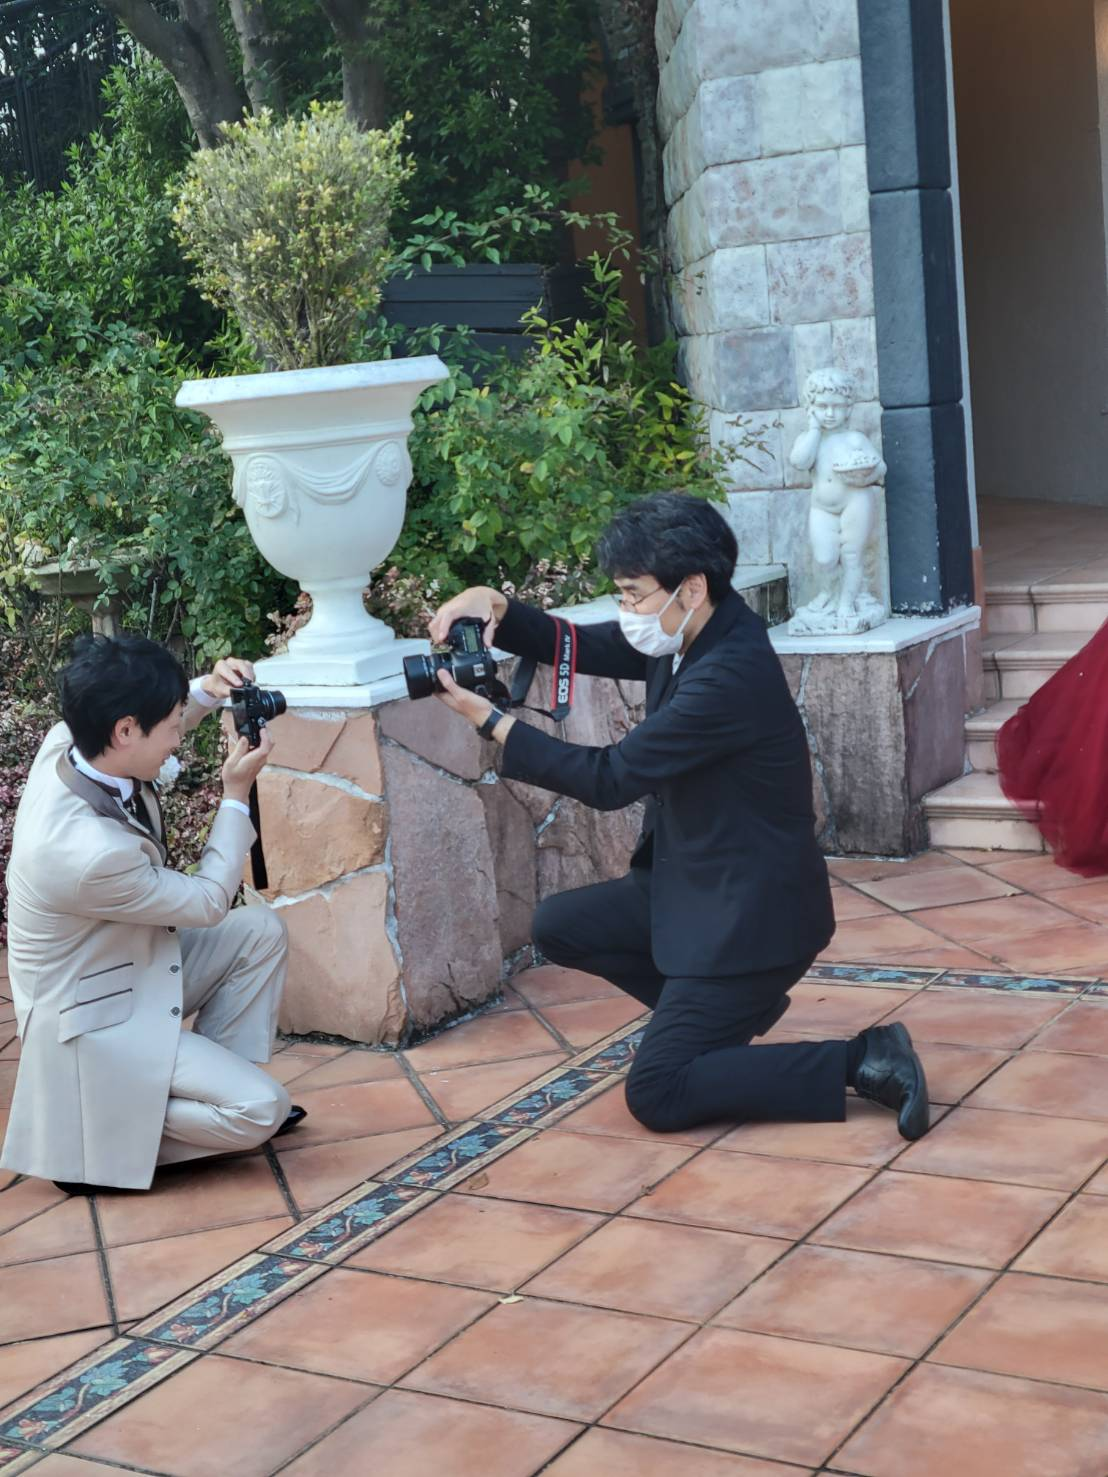male: (435, 495, 954, 1151), (1, 631, 307, 1208)
